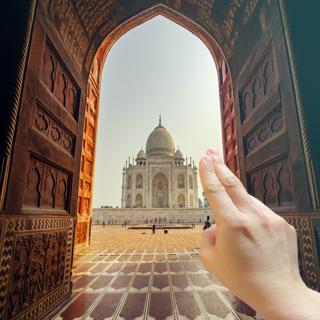DHAVE: (190, 142, 304, 308)
